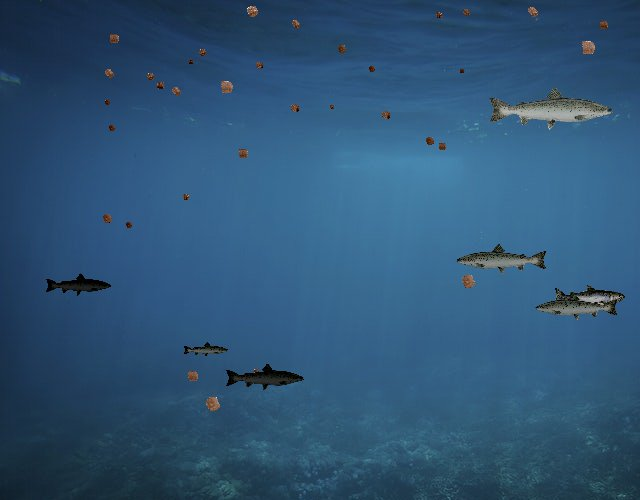Fish: (486, 85, 615, 131), (455, 242, 549, 276), (534, 291, 620, 322), (224, 362, 305, 391), (552, 285, 625, 311), (45, 272, 113, 297), (183, 341, 230, 358)
Pellet: (198, 388, 228, 419), (240, 0, 265, 24), (181, 365, 204, 388), (376, 105, 395, 124), (178, 190, 193, 205), (122, 218, 136, 232), (432, 8, 446, 22)
